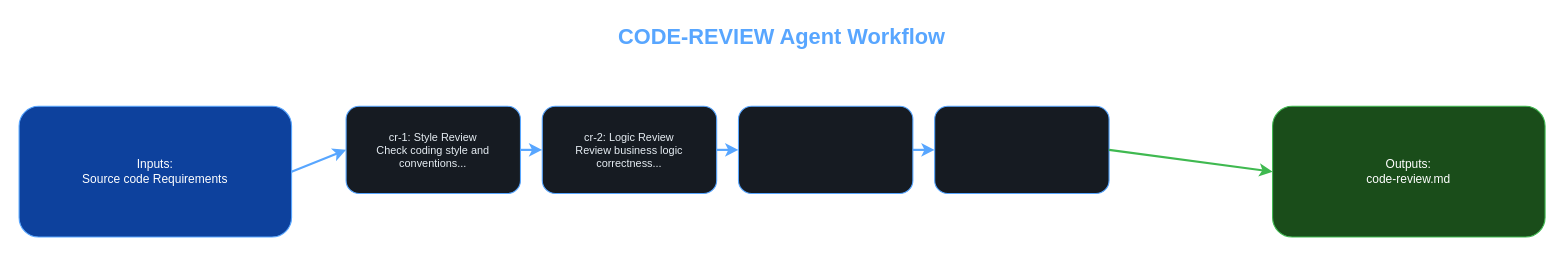
The diagram is 1564 pixels wide and 256 high, and some of its shapes have lost their labels. Here are the shapes that lost their labels. From the top down, the centre of each, then its label:
the point at 825,149: cr-3: Performance Review Identify performance issues...
the point at 1021,149: cr-4: Security Review Quick security check...
